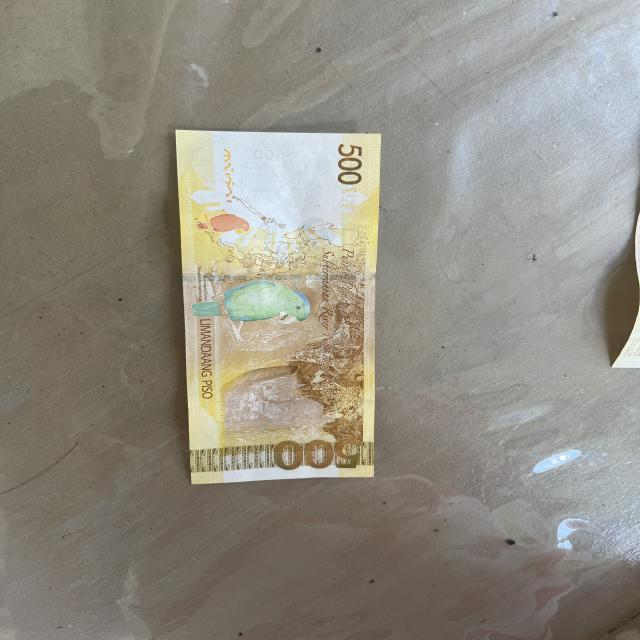500_big_parrot: (198, 276, 311, 328)
500_parrot_watermark: (198, 212, 249, 238)
value_watermark: (250, 147, 288, 162)
watermark: (236, 145, 340, 222)
